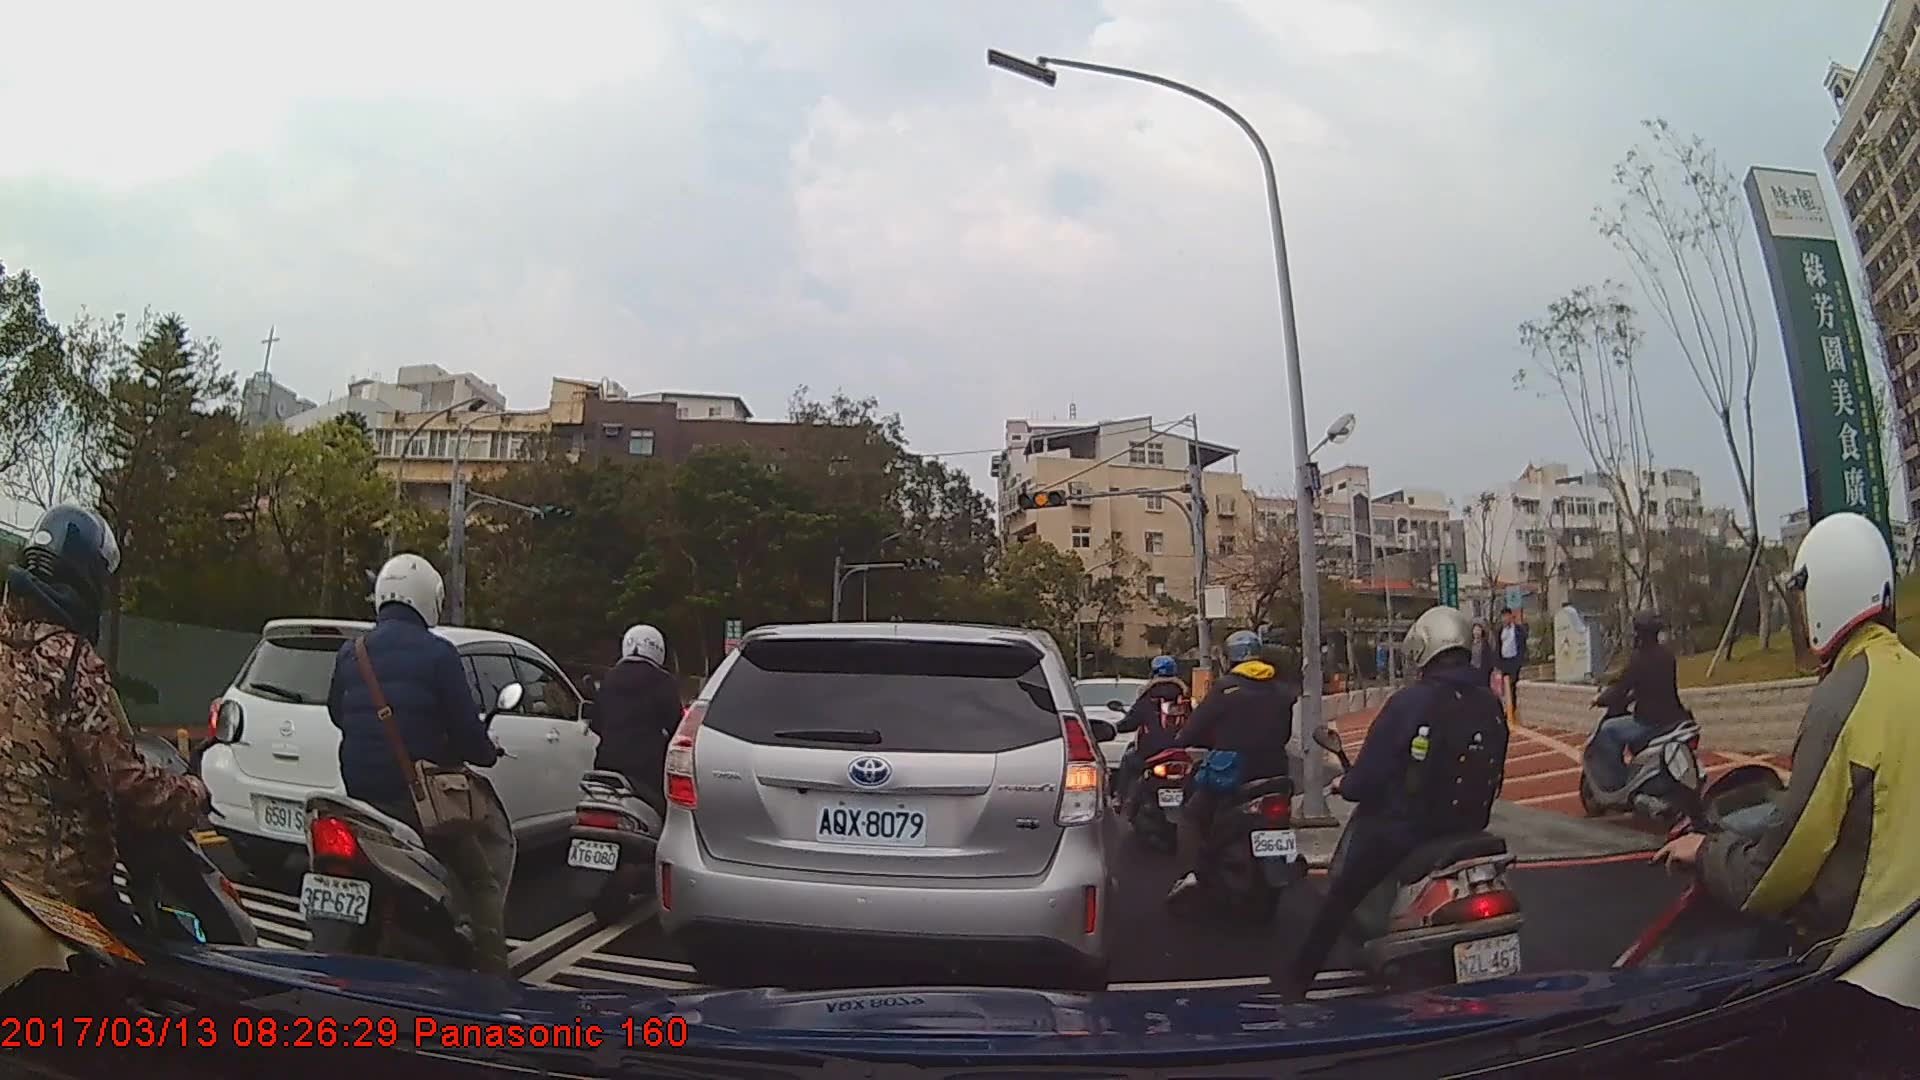pedestrian: (1491, 609, 1532, 719), (1464, 624, 1498, 718)
rider: (1596, 511, 1920, 1080), (1, 499, 262, 1056), (299, 545, 526, 1000), (1307, 605, 1536, 1021), (564, 625, 720, 930), (1167, 630, 1307, 922), (1577, 613, 1701, 836), (1107, 652, 1200, 856)
vehicle: (651, 621, 1115, 988), (201, 617, 628, 889), (1058, 675, 1165, 783)
